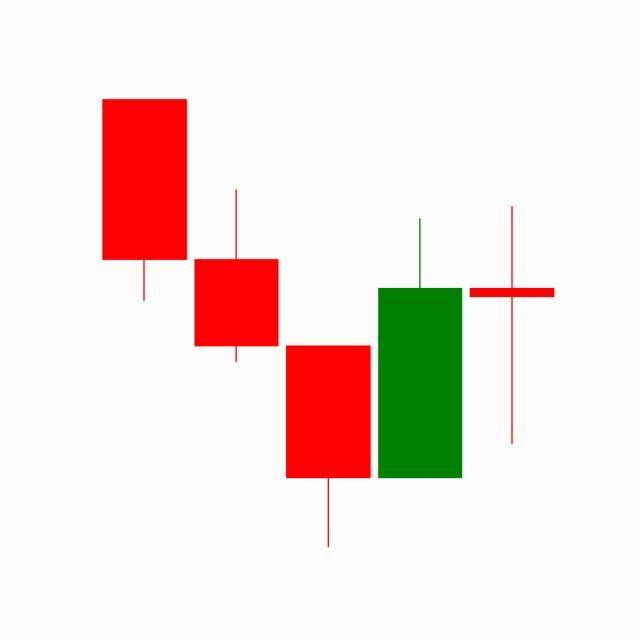Spinning Top: (466, 204, 559, 448)
